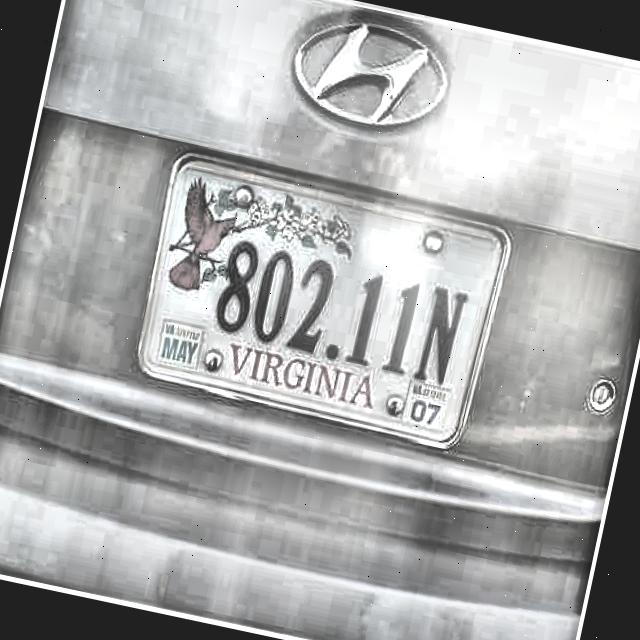license_plate: (120, 145, 514, 460)
objects: (124, 148, 515, 458)
